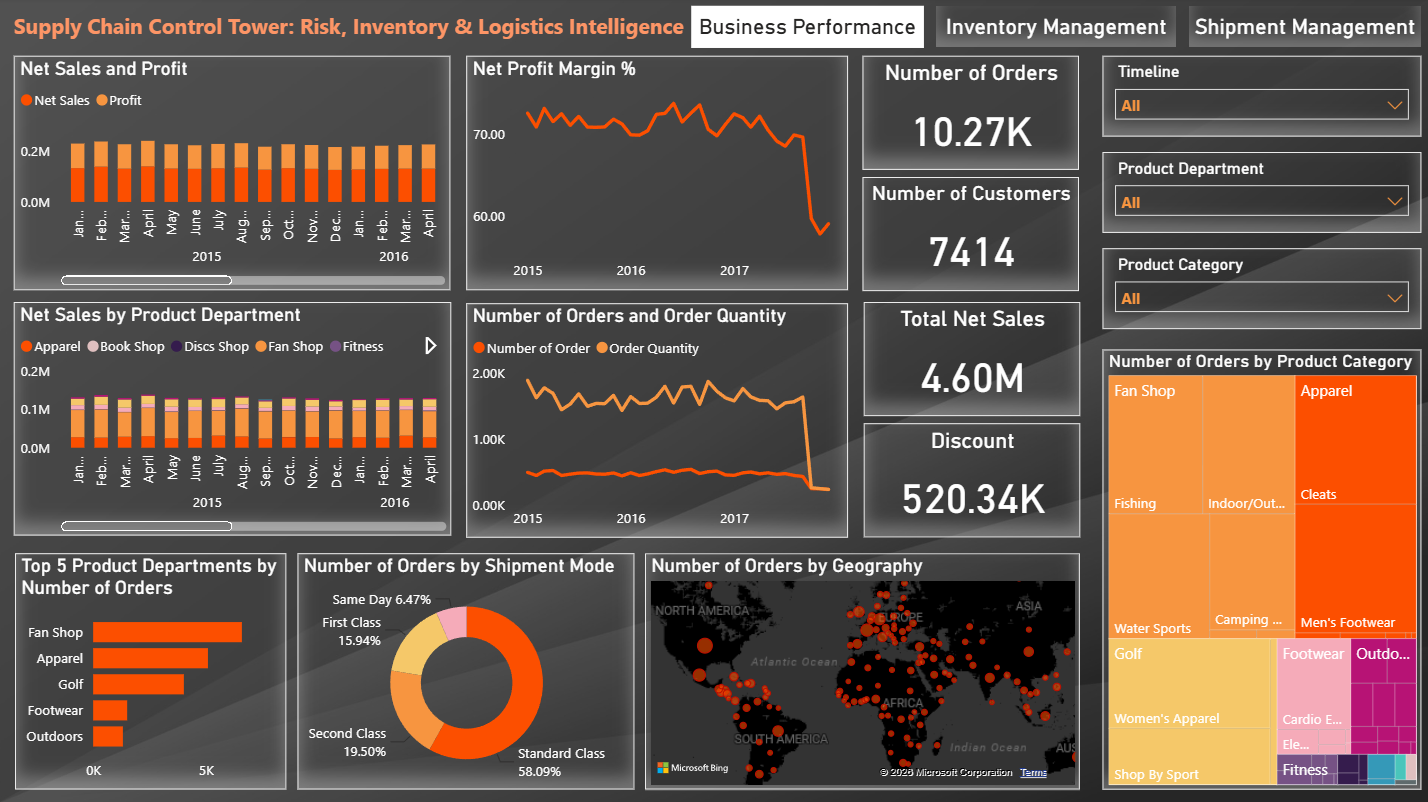

What the dashboard file says about the page in this screenshot:
{"tool":"powerbi","page":{"name":"Business Performance","canvas":[1280,720],"ordinal":0},"visuals":[{"type":"lineStackedColumnComboChart","title":"Net Sales and Profit","fields":{"Y":["Sum(order.Net Sales)","Sum(order.Profit)"],"Category":["order.Shipment Date.Variation.Date Hierarchy.Year","order.Shipment Date.Variation.Date Hierarchy.Month"]},"box":[16.9,52.7,388.6,208.6],"z":0},{"type":"slicer","fields":{"Values":["Date.Date.Variation.Date Hierarchy.Year","Date.Date.Variation.Date Hierarchy.Quarter","Date.Date.Variation.Date Hierarchy.Month","Date.Date.Variation.Date Hierarchy.Day"]},"box":[986.3,52.3,283.9,72.4],"z":1000},{"type":"lineChart","title":"Net Profit Margin %","fields":{"Y":["order.Profit Margin"],"Category":["order.Shipment Date.Variation.Date Hierarchy.Year","order.Shipment Date.Variation.Date Hierarchy.Month"]},"box":[419.7,52.7,340,208.6],"z":2000},{"type":"clusteredBarChart","title":"Top 5 Product Departments by Number of Orders ","fields":{"Category":["product.Product Department"],"Y":["Count(order.Order ID)"]},"box":[17.4,495.4,241.9,210.5],"z":3000},{"type":"donutChart","title":"Number of Orders by Shipment Mode","fields":{"Category":["order.Shipment Mode"],"Y":["Count(order.Order ID)"]},"box":[269.8,495.4,300,210.5],"z":4000},{"type":"map","title":"Number of Orders by Geography","fields":{"Category":["order.Customer Country"],"Size":["Count(order.Order ID)"]},"box":[578.9,495.4,387.1,210],"z":5000},{"type":"treemap","title":"Number of Orders by Product Category","fields":{"Values":["Count(order.Order ID)"],"Group":["product.Product Department"],"Details":["product.Product Category"]},"box":[986.3,313.9,283.9,391.8],"z":6000},{"type":"card","title":"Number of Orders","fields":{"Values":["Count(order.Order ID)"]},"box":[772.5,52.5,192.5,101.8],"z":7000},{"type":"lineStackedColumnComboChart","title":"Net Sales by Product Department","fields":{"Category":["order.Shipment Date.Variation.Date Hierarchy.Year","order.Shipment Date.Variation.Date Hierarchy.Month"],"Y":["Sum(order.Net Sales)"],"Series":["product.Product Department"]},"box":[16.7,271.6,389.6,208.2],"z":8000},{"type":"lineChart","title":"Number of Orders and Order Quantity","fields":{"Y":["Count(order.Order ID)","Sum(order.Order Quantity)"],"Category":["Date.Date.Variation.Date Hierarchy.Year","Date.Date.Variation.Date Hierarchy.Month"]},"box":[420,272.5,340,208.8],"z":9000},{"type":"card","title":"Number of Customers","fields":{"Values":["Count(order.Customer ID)"]},"box":[772.5,160,192.5,101.2],"z":10000},{"type":"card","title":"Total Net Sales","fields":{"Values":["Sum(order.Net Sales)"]},"box":[773.8,271.2,192.5,101.2],"z":11000},{"type":"card","title":"Discount","fields":{"Values":["Sum(order.Discount)"]},"box":[773.8,380,192.5,101.2],"z":12000},{"type":"slicer","fields":{"Values":["product.Product Department"]},"box":[986.3,138,283.9,72.4],"z":13000},{"type":"slicer","fields":{"Values":["product.Product Category"]},"box":[986.3,223.7,283.9,72.4],"z":14000},{"type":"textbox","box":[1063.1,7.8,207.1,36.7],"z":15000},{"type":"actionButton","box":[836,7.8,216,44.5],"z":16000},{"type":"actionButton","box":[1063.1,8.9,207.1,35.6],"z":17000},{"type":"textbox","box":[16.3,8.1,603.5,37.2],"z":18000},{"type":"textbox","box":[838.2,7.8,213.7,36.7],"z":19000},{"type":"textbox","box":[619.8,8.1,207,37.2],"z":20000}]}

Visuals, with their boxes in screenshot pixels (x1, y1, x2, y2), scaled from the page's 1280x720 canvas onto the 1428x802 screenshot:
"Net Sales and Profit" lineStackedColumnComboChart: <region>19, 59, 452, 291</region>
slicer - Date.Date.Variation.Date Hierarchy.Year x Date.Date.Variation.Date Hierarchy.Quarter: <region>1100, 58, 1417, 139</region>
"Net Profit Margin %" lineChart: <region>468, 59, 848, 291</region>
"Top 5 Product Departments by Number of Orders " clusteredBarChart: <region>19, 552, 289, 786</region>
"Number of Orders by Shipment Mode" donutChart: <region>301, 552, 636, 786</region>
"Number of Orders by Geography" map: <region>646, 552, 1078, 786</region>
"Number of Orders by Product Category" treemap: <region>1100, 350, 1417, 786</region>
"Number of Orders" card: <region>862, 58, 1077, 172</region>
"Net Sales by Product Department" lineStackedColumnComboChart: <region>19, 303, 453, 534</region>
"Number of Orders and Order Quantity" lineChart: <region>469, 304, 848, 536</region>
"Number of Customers" card: <region>862, 178, 1077, 291</region>
"Total Net Sales" card: <region>863, 302, 1078, 415</region>
"Discount" card: <region>863, 423, 1078, 536</region>
slicer - product.Product Department: <region>1100, 154, 1417, 234</region>
slicer - product.Product Category: <region>1100, 249, 1417, 330</region>
textbox: <region>1186, 9, 1417, 50</region>
actionButton: <region>933, 9, 1174, 58</region>
actionButton: <region>1186, 10, 1417, 50</region>
textbox: <region>18, 9, 691, 50</region>
textbox: <region>935, 9, 1174, 50</region>
textbox: <region>691, 9, 922, 50</region>
